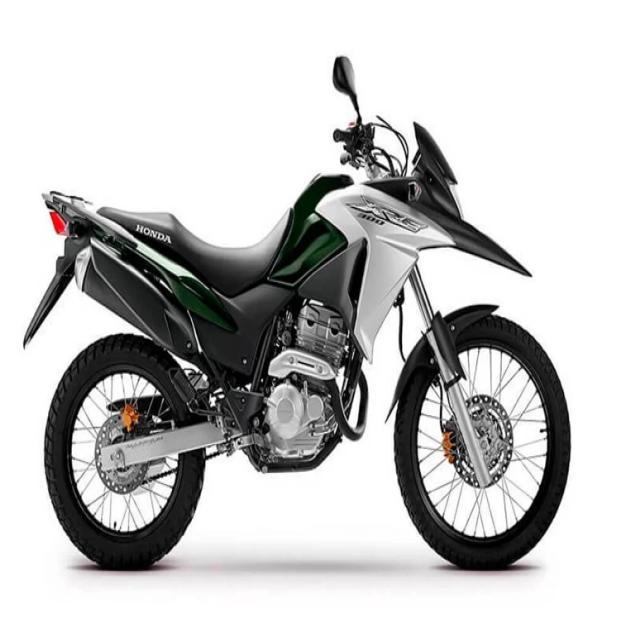MOTORCYCLE: (25, 60, 585, 577)
